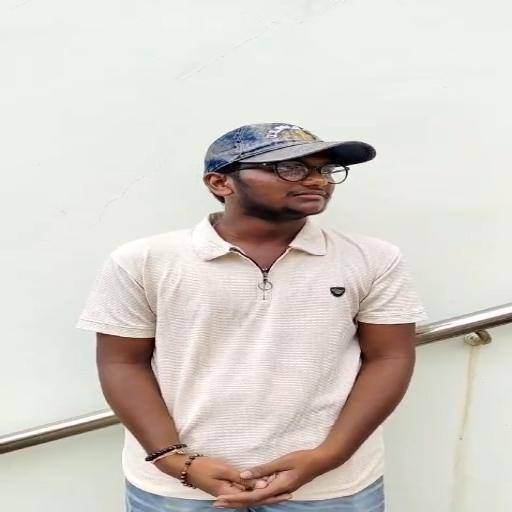employee-detectio-system: (69, 112, 433, 449)
